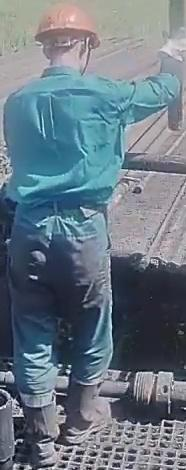gloves: (158, 25, 186, 69)
helmet: (33, 4, 101, 49)
vest: (0, 76, 123, 221)
